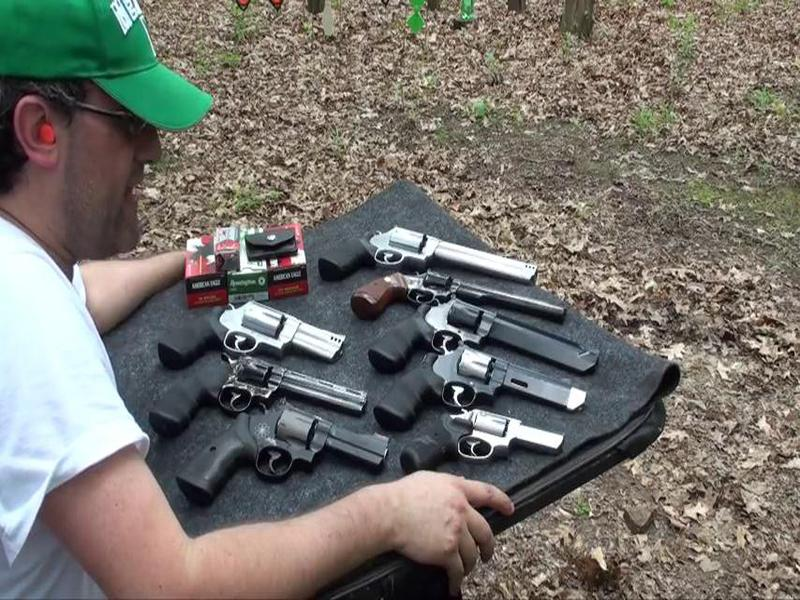Revolver: (147, 297, 344, 369)
